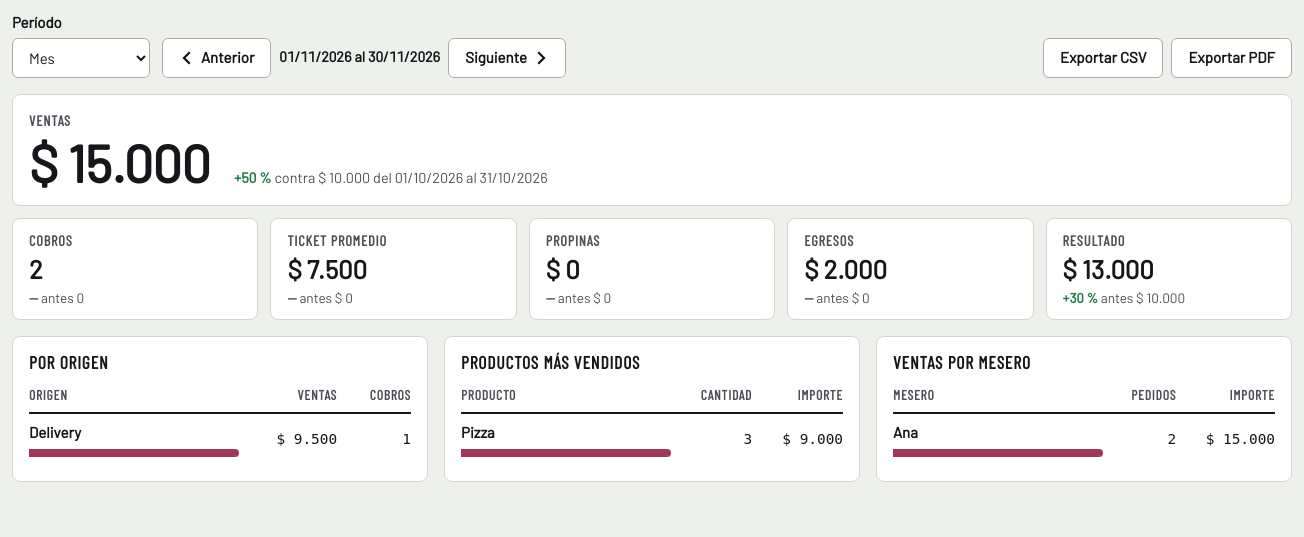
Test: exporta a CSV con lo que está en pantalla
This screenshot has width=1304, height=537.
Expected: the element "Ventas" is shown, x1=12 y1=94 x2=1292 y2=206
Click the button "Exportar CSV".
click(1103, 58)  # box x1=1043 y1=38 x2=1164 y2=78
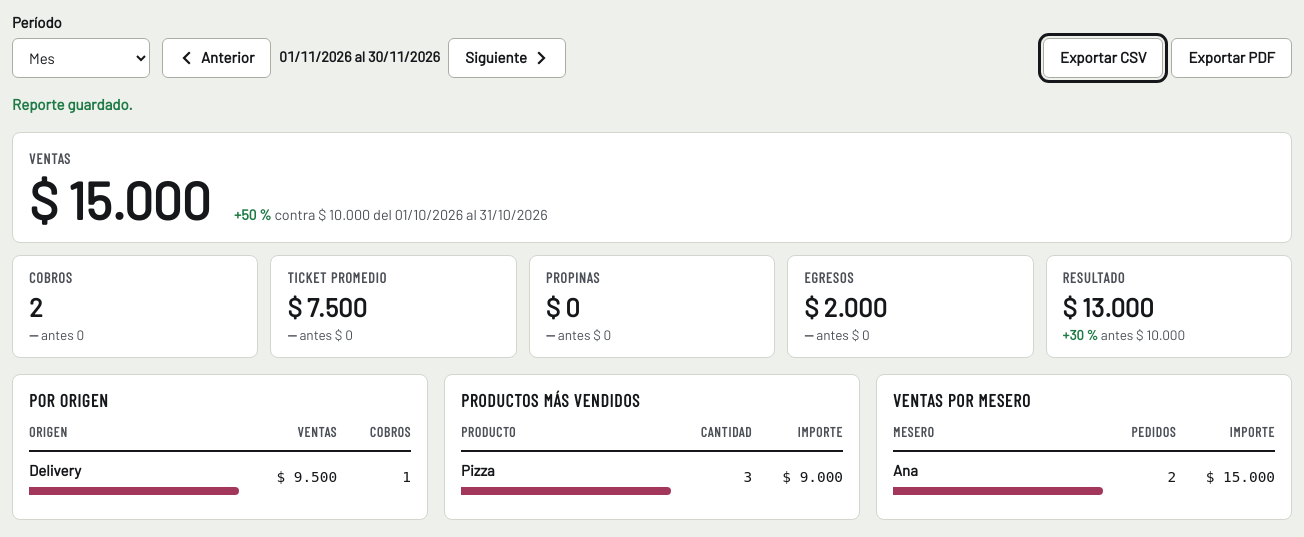
Result: the text "Reporte guardado." is shown at x1=12 y1=95 x2=133 y2=113
